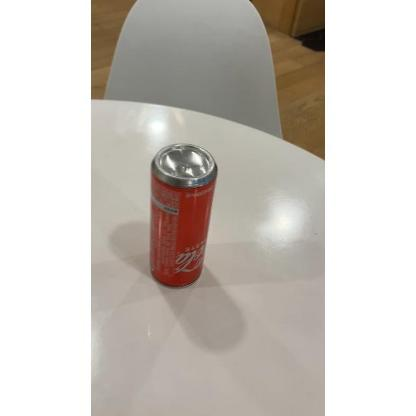Can: (148, 144, 219, 290)
